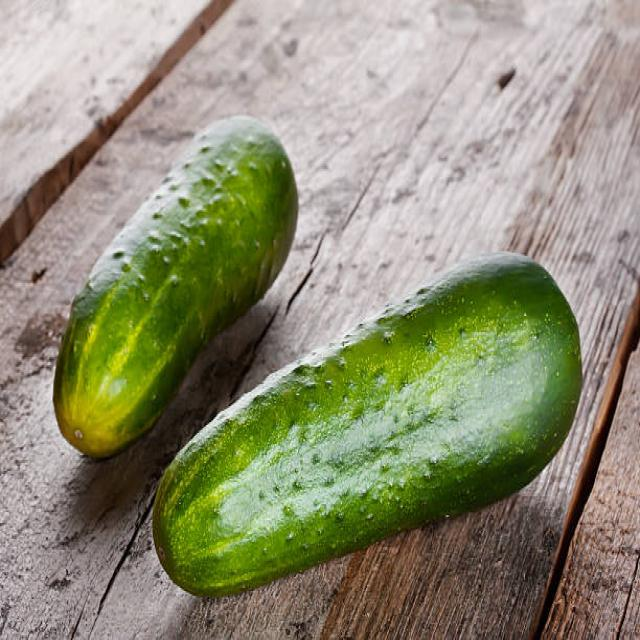cucumber: (153, 249, 583, 600), (51, 116, 296, 456)
